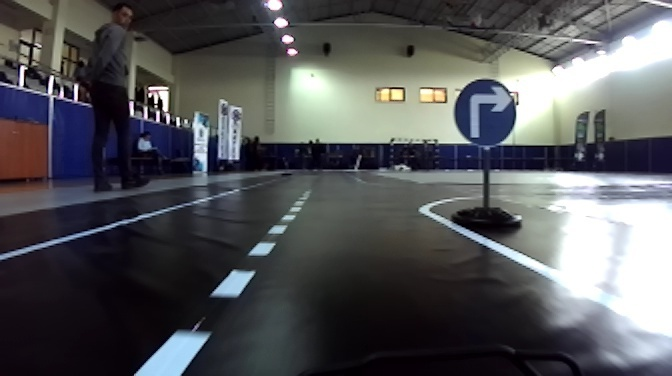saga_donus: (451, 79, 518, 148)
